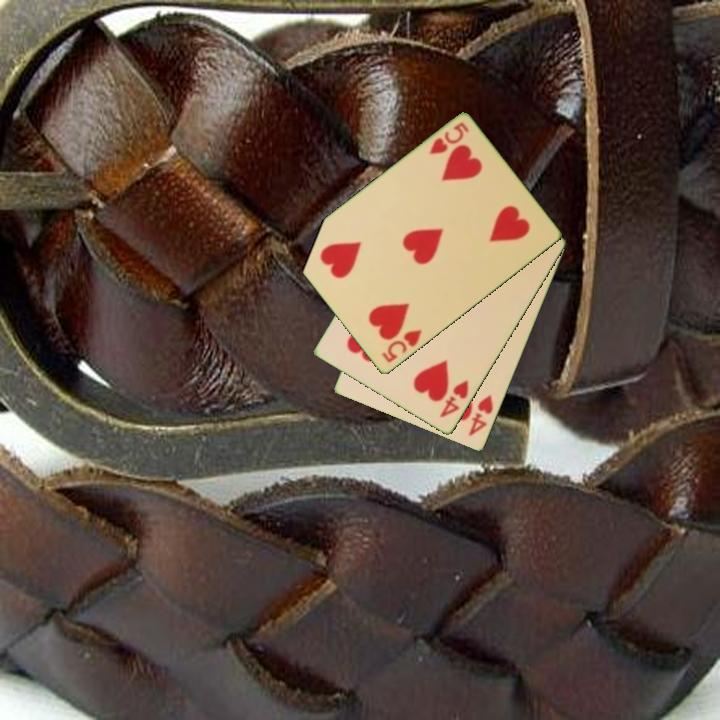4h: (436, 377, 472, 421), (465, 392, 496, 440)
5h: (378, 326, 425, 366), (426, 119, 472, 158)
